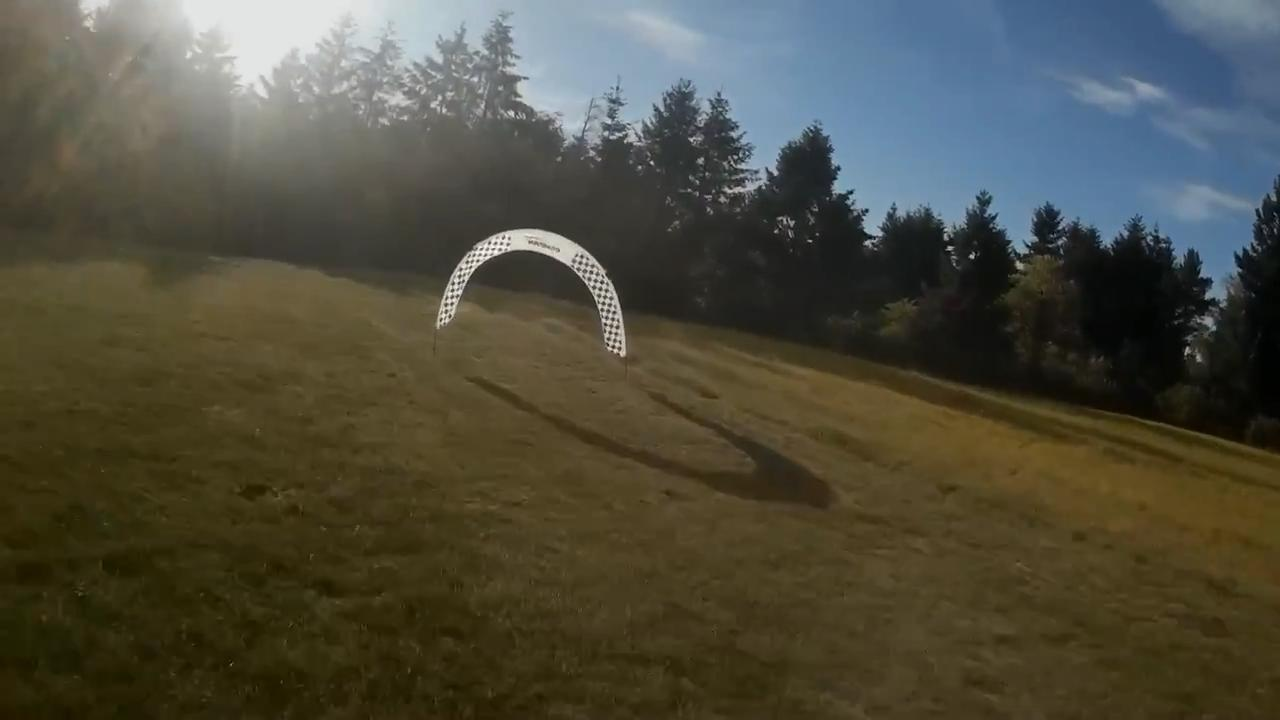gate: (435, 225, 628, 358)
